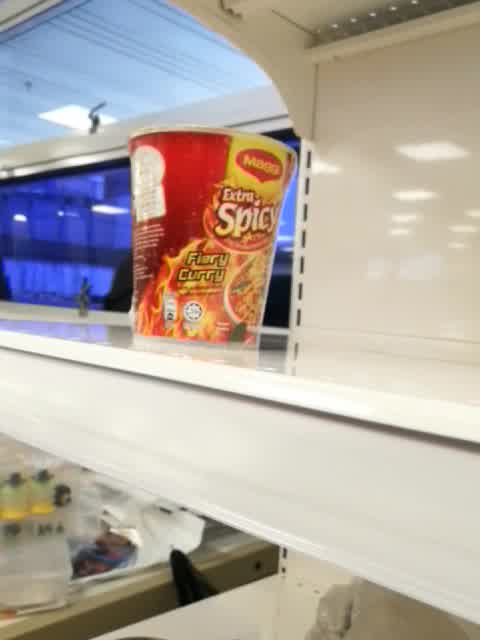maggi: (125, 126, 298, 362)
